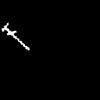double_crochet: (2, 23, 28, 49)
